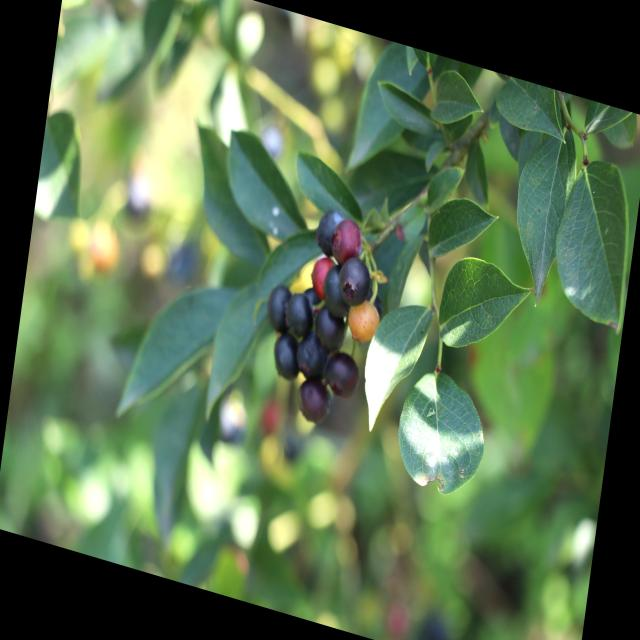blueberry: (336, 253, 374, 309), (295, 372, 334, 425), (320, 261, 355, 320), (325, 346, 362, 400), (270, 330, 303, 382), (296, 331, 331, 380), (313, 303, 347, 353), (284, 290, 316, 338), (314, 205, 342, 259), (267, 282, 292, 331)
blueberry-halfripe: (346, 296, 384, 346), (330, 216, 362, 263), (309, 252, 334, 299)
